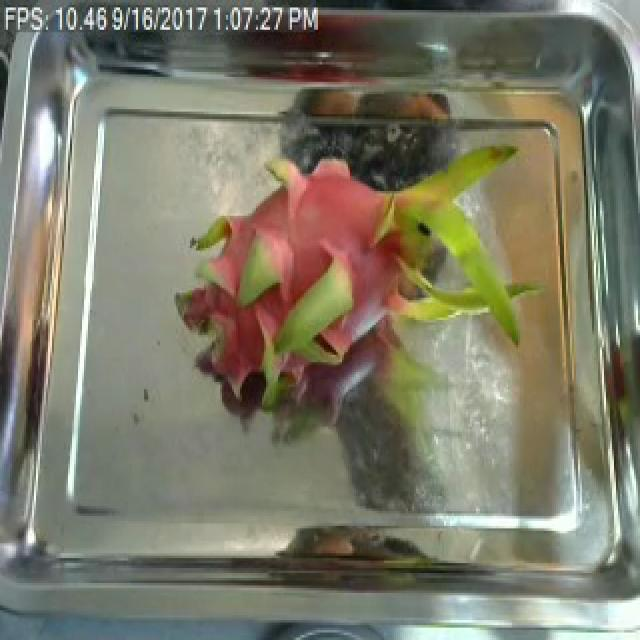fruit: (156, 111, 548, 456)
